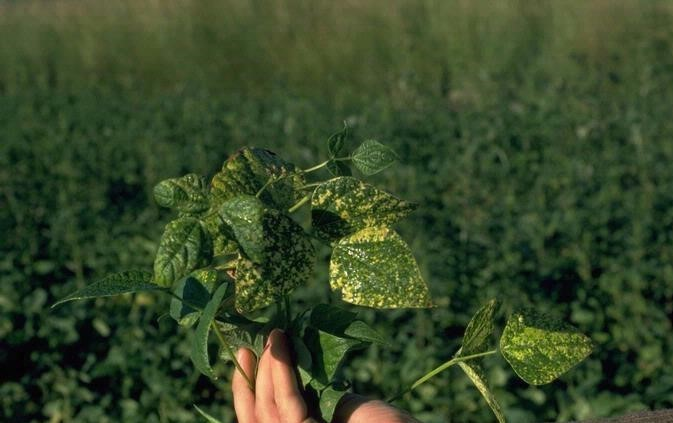StringBeans_Mosaic: (219, 209, 323, 304), (335, 230, 436, 316), (301, 172, 413, 240), (509, 307, 589, 379)
